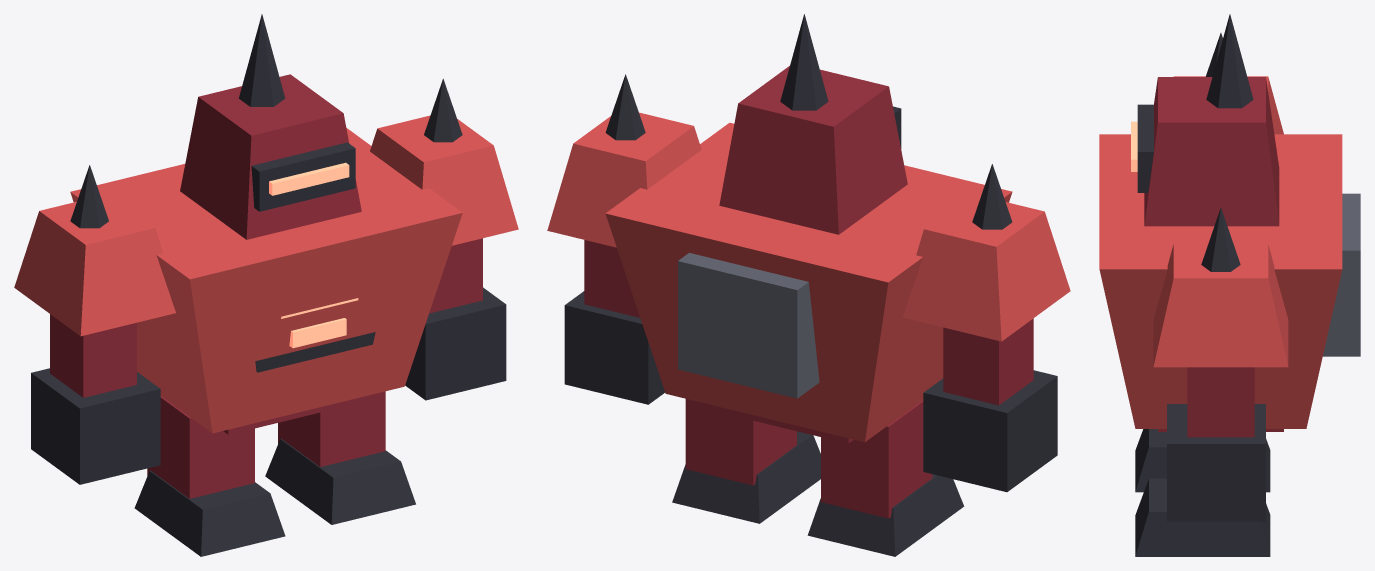
Rendered from red_brute_lo.glb.
The picture shows the model from 3 angles, left to right: view 1: azimuth 30°, elevation 25°; view 2: azimuth 150°, elevation 25°; view 3: azimuth 270°, elevation 25°; orthographic projection. The views are drawn at different scales.
Visible parts, largest first — view 1: torso, armL, head, armR, legL, legR; view 2: torso, armL, head, armR, legL, legR; view 3: torso, armR, head, legR, legL, armL.
Boxes of the visible parts, box(x1,y1,x2,y2) form: torso: box(70, 128, 462, 434); armL: box(14, 165, 175, 484); head: box(180, 14, 361, 239); armR: box(370, 78, 518, 400); legL: box(134, 396, 285, 556); legR: box(265, 391, 415, 524); torso: box(605, 122, 1012, 443); armL: box(902, 164, 1070, 492); head: box(719, 14, 907, 234); armR: box(547, 74, 701, 404); legL: box(807, 400, 964, 556); legR: box(672, 399, 820, 523); torso: box(1099, 134, 1360, 431); armR: box(1153, 208, 1288, 521); head: box(1131, 14, 1279, 226); legR: box(1135, 478, 1270, 556); legL: box(1135, 429, 1270, 492); armL: box(1173, 33, 1283, 134).
Size of the model in its own units: 1.14 by 1.2 by 0.5798.
